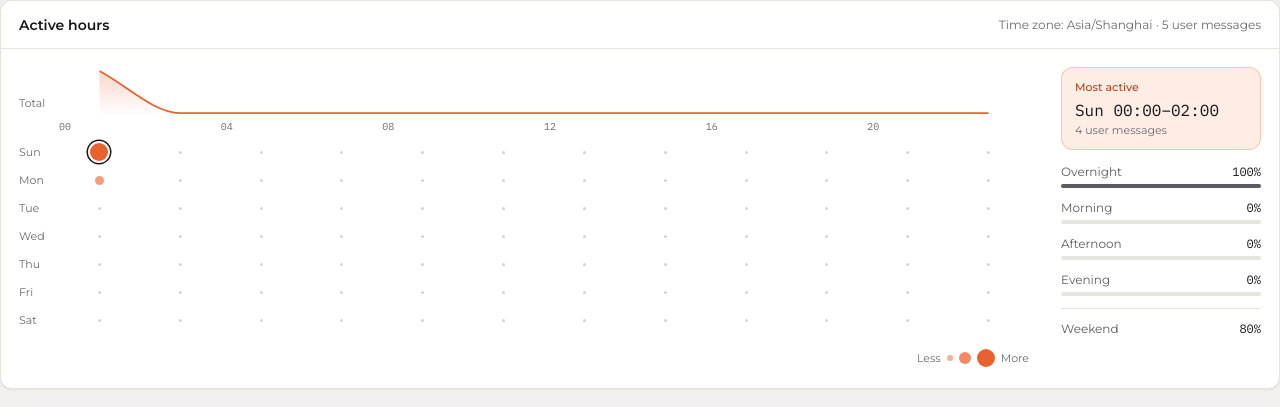
it: active hours chart › scales dot area and exposes counts with hover, keyboard and touch
Hover over the button named "Sun · 00:00–02:00 · 4 user messages" at (99, 152), box [59,138,140,166]
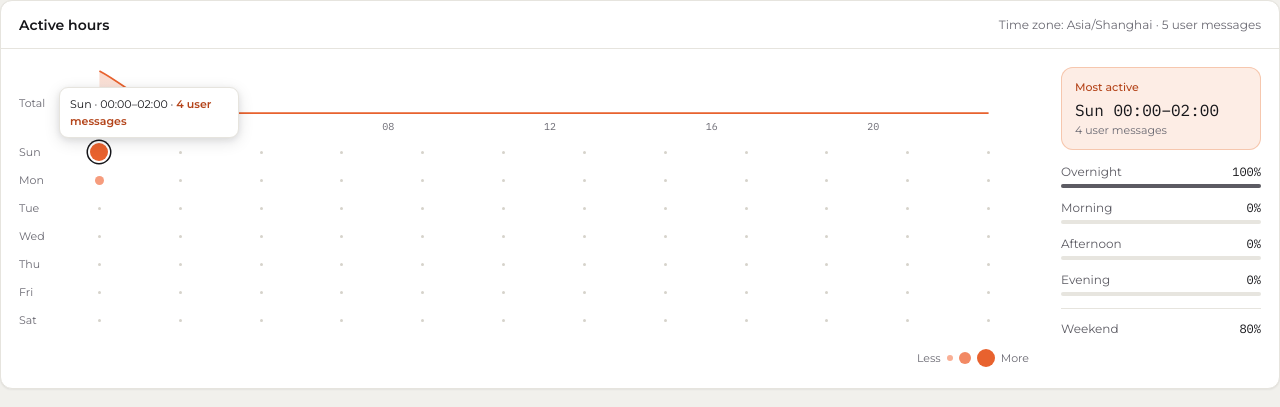
Expected: the tooltip reads "Sun · 00:00–02:00 · 4 user messages", [59,87,239,138]
Move the pointer off the button named "Sun · 00:00–02:00 · 4 user messages", box [59,138,140,166]
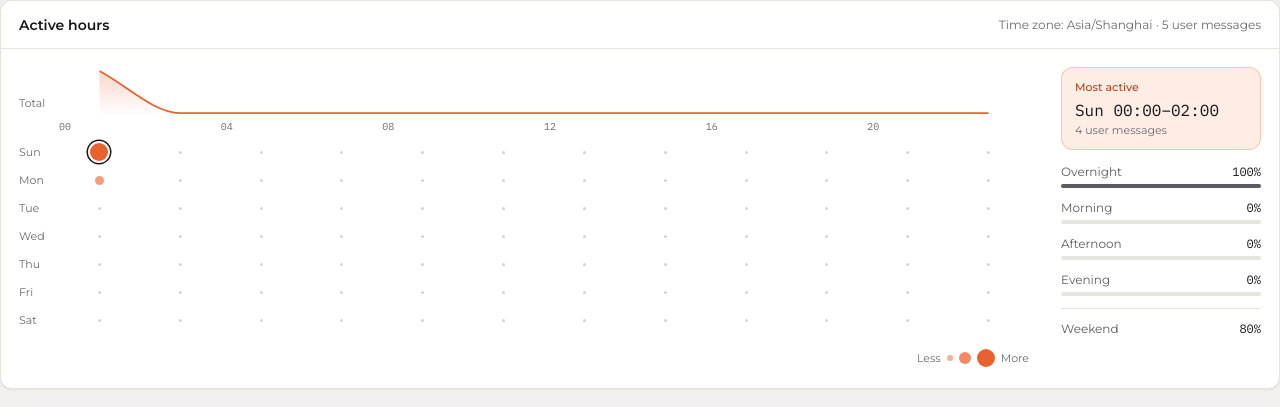
Expected: the tooltip "Sun · 00:00–02:00 · 4 user messages" is gone
Focus the button named "Mon · 00:00–02:00 · 1 user messages". click: (99, 180)
box: [59,166,140,194]
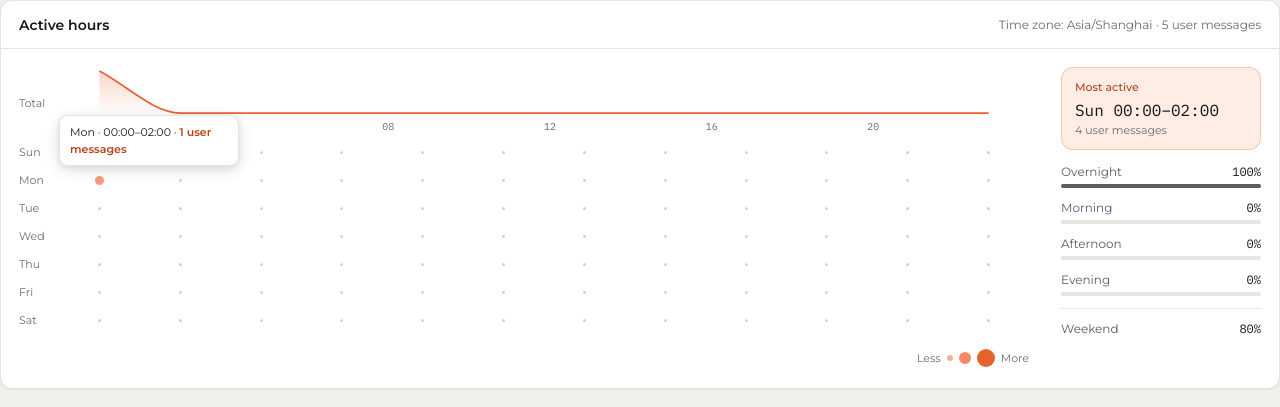
Expected: the tooltip reads "Mon · 00:00–02:00 · 1 user messages", [59,115,239,166]
Press Escape in the button named "Mon · 00:00–02:00 · 1 user messages", box [59,166,140,194]
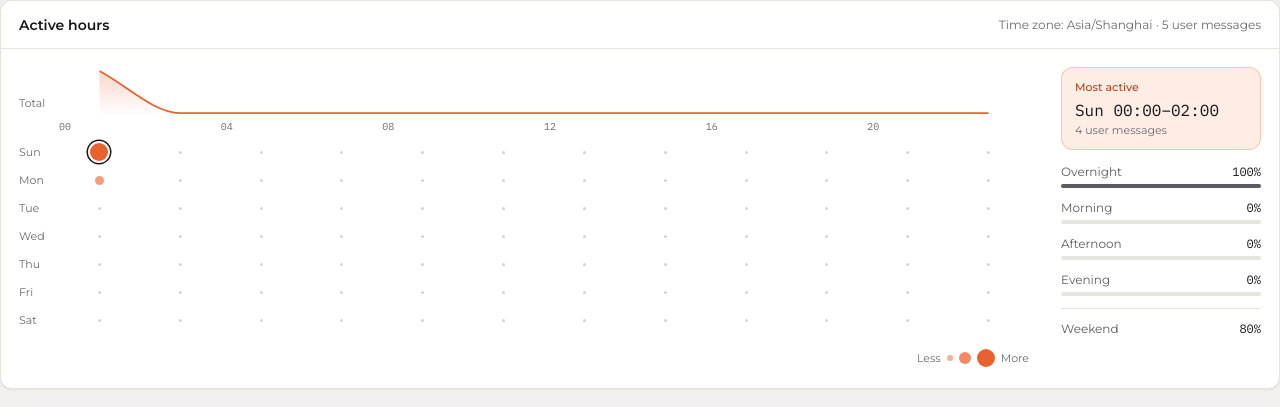
Expected: the tooltip "Mon · 00:00–02:00 · 1 user messages" is gone
Click the button named "Sun · 00:00–02:00 · 4 user messages". click: (99, 152)
box: [59,138,140,166]
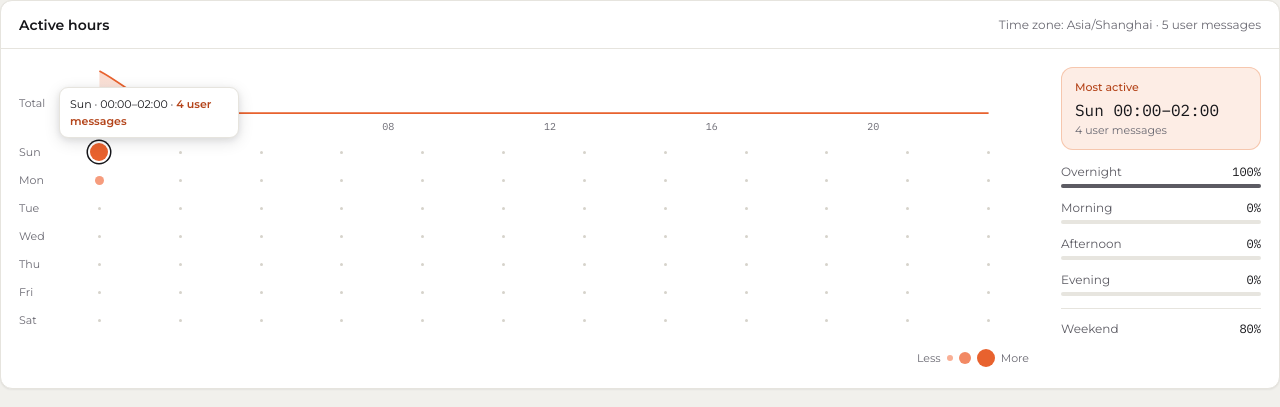
Expected: the tooltip "Sun · 00:00–02:00 · 4 user messages" is shown, [59,87,239,138]
Leave the button named "Sun · 00:00–02:00 · 4 user messages", box [59,138,140,166]
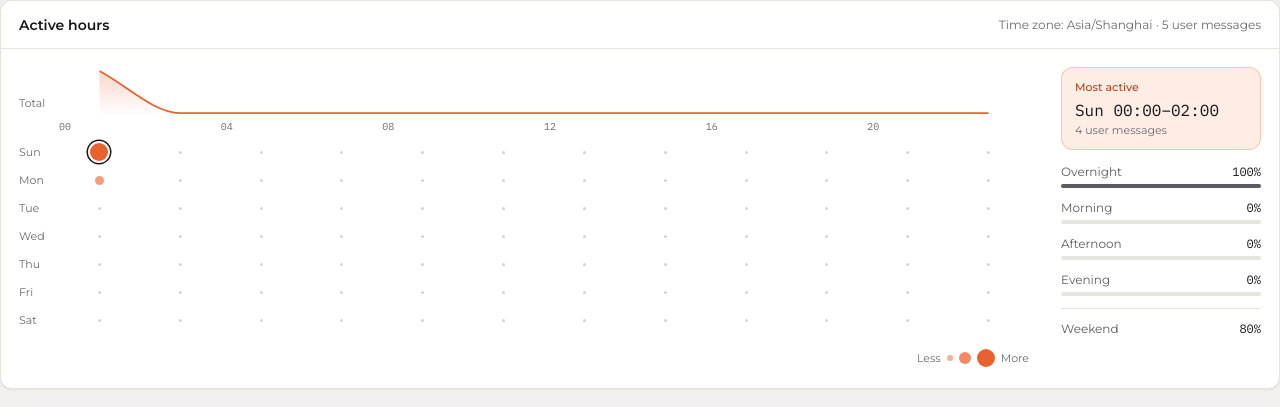
Expected: the tooltip "Sun · 00:00–02:00 · 4 user messages" is gone
